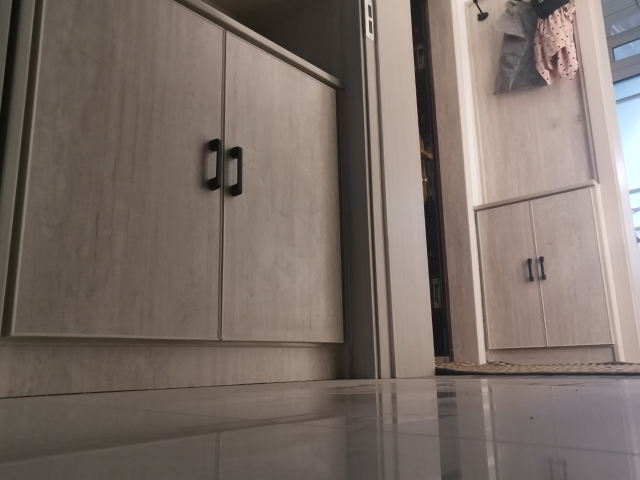cabinet: (1, 1, 353, 401), (470, 173, 639, 363)
carpet: (434, 359, 640, 377)
